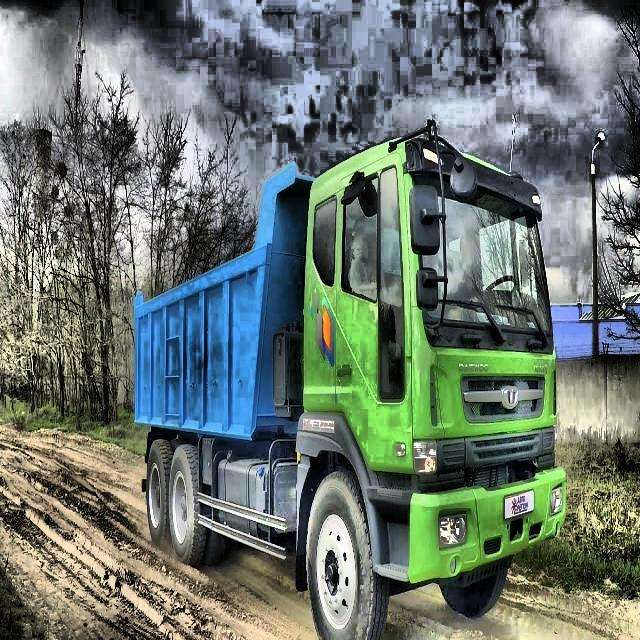dump_truck: (134, 136, 566, 640)
